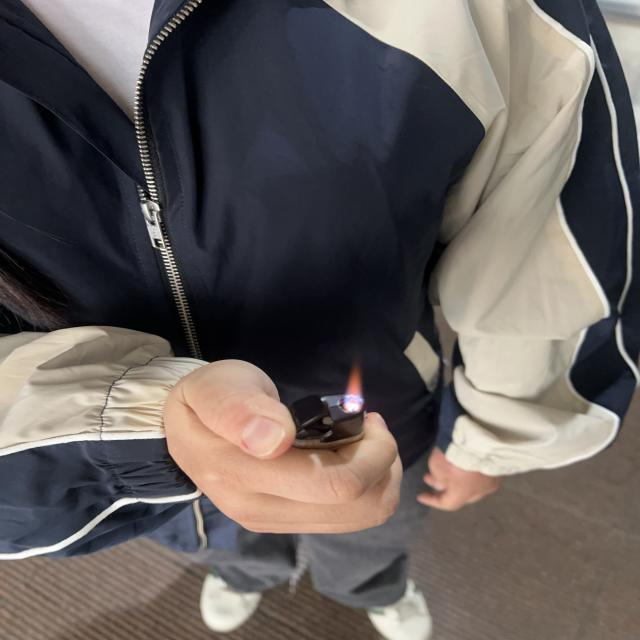fire: (344, 367, 362, 400)
